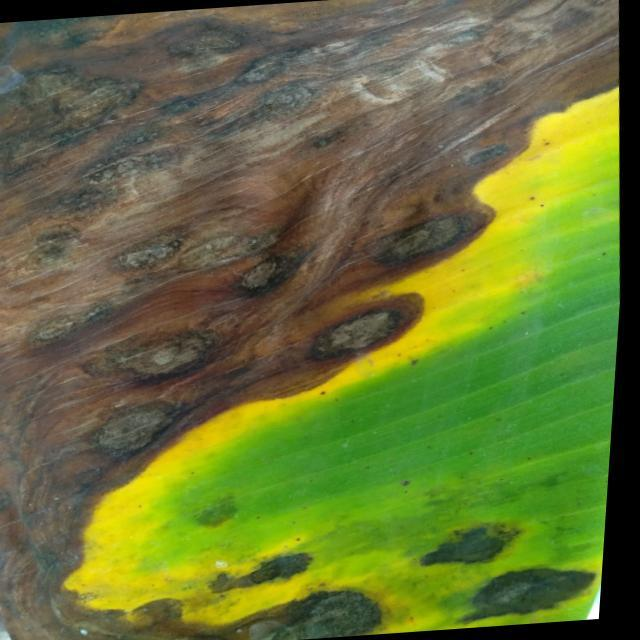Early_rust: (11, 37, 640, 640)
